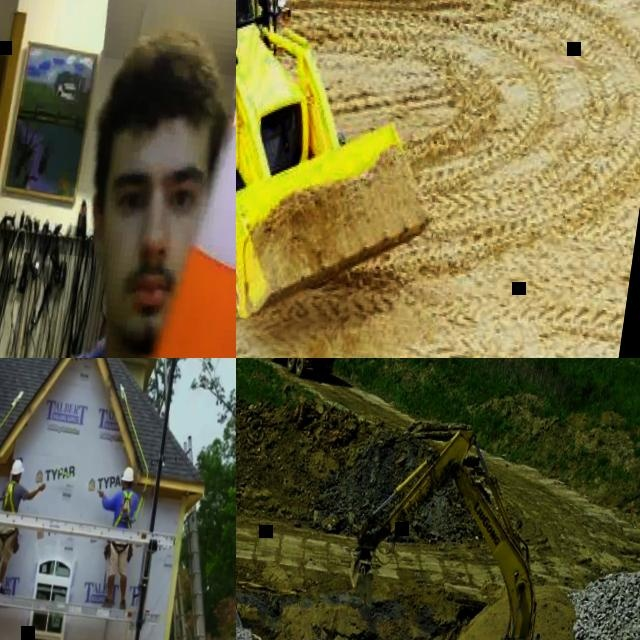Hardhat: (10, 459, 26, 477), (120, 467, 136, 483)
NO-Hardhat: (102, 32, 235, 156)
NO-Mask: (107, 251, 182, 348), (122, 485, 125, 491), (16, 478, 20, 482)
NO-Safety Vest: (112, 488, 137, 529), (2, 480, 23, 512)
Person: (0, 12, 236, 358), (82, 464, 146, 611), (0, 457, 48, 597)
Safety Cone: (68, 0, 236, 358)
machinery: (236, 0, 491, 346), (323, 416, 640, 640), (251, 358, 348, 381)
